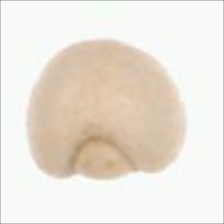L5: (67, 130, 139, 184), (64, 39, 142, 54)
L6: (21, 36, 189, 185)
